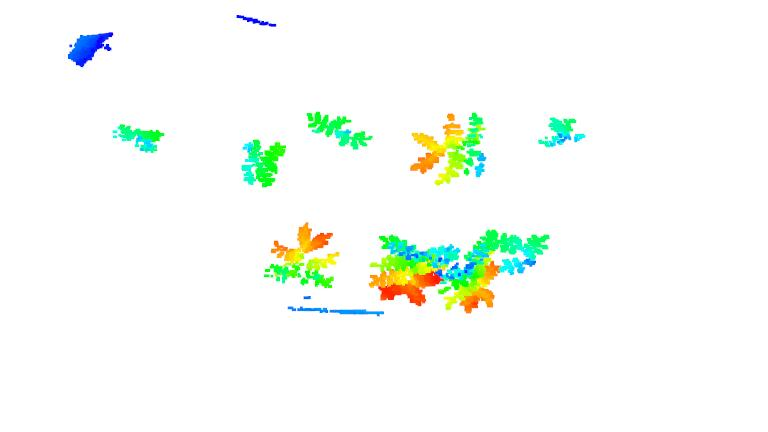chickpea: (410, 111, 494, 185), (364, 235, 447, 306), (263, 223, 336, 291), (442, 253, 500, 315), (471, 228, 549, 272), (305, 111, 375, 149), (240, 137, 286, 190), (537, 116, 589, 149), (111, 123, 164, 153)
